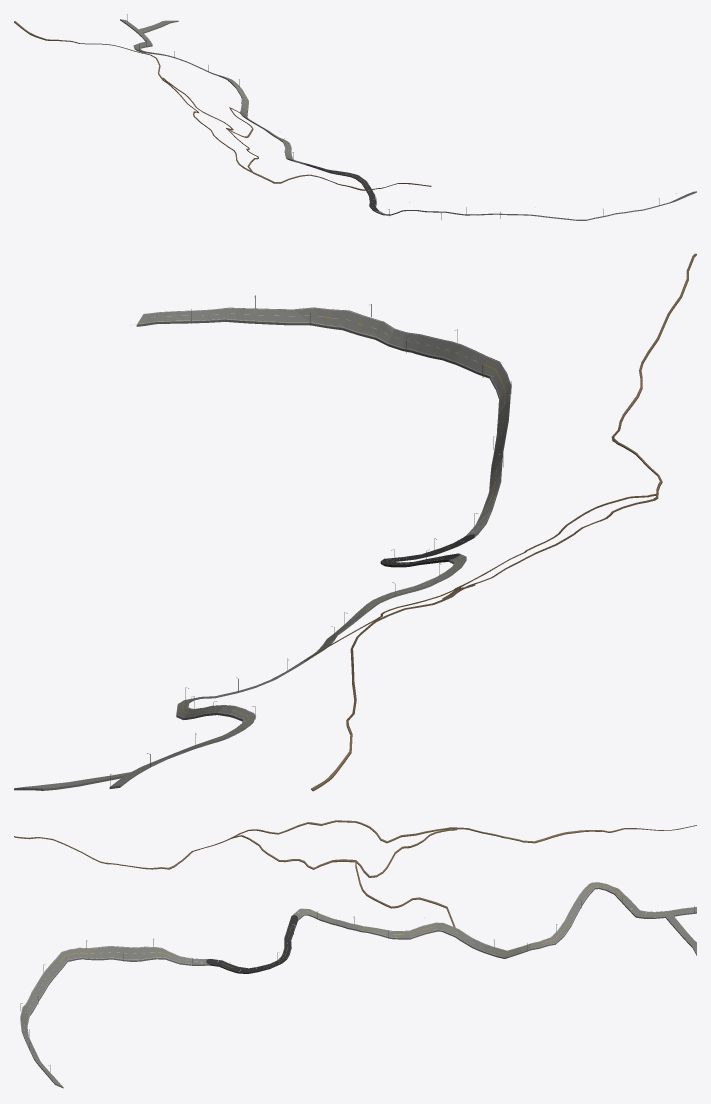
Rendered from 16-54731-29755.3ee83dde.glb.
The picture shows the model from 3 angles, top to bottom: view 1: azimuth 30°, elevation 25°; view 2: azimuth 150°, elevation 25°; view 3: azimuth 270°, elevation 25°; orthographic projection. The views are drawn at different scales.
Bounding box in the file's own units: 420 × 105 × 584.
